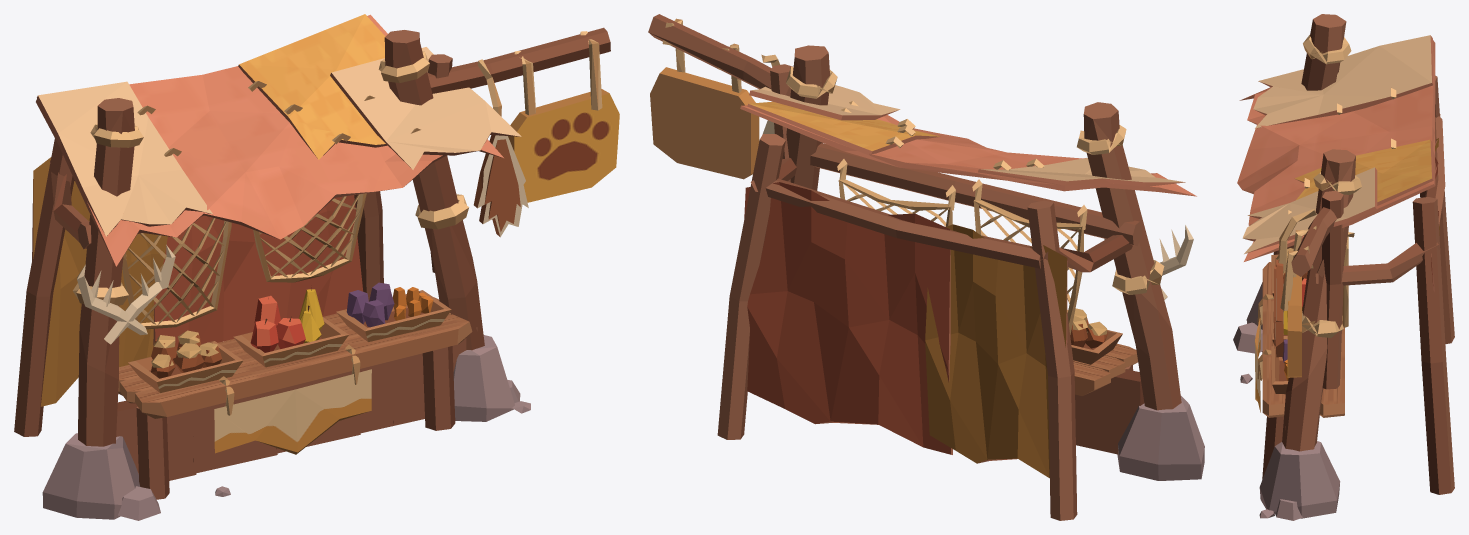
File: Prehistoric_Hunting_Stall.glb
The picture shows the model from 3 angles, left to right: view 1: azimuth 30°, elevation 25°; view 2: azimuth 150°, elevation 25°; view 3: azimuth 270°, elevation 25°; orthographic projection. The views are drawn at different scales.
Visible parts, largest first — view 1: Prehistoric Hunting Stall; view 2: Prehistoric Hunting Stall; view 3: Prehistoric Hunting Stall.
Part boxes in pixels (left/top/right/bottom): Prehistoric Hunting Stall: left=14, top=14, right=619, bottom=520; Prehistoric Hunting Stall: left=648, top=14, right=1204, bottom=520; Prehistoric Hunting Stall: left=1233, top=14, right=1454, bottom=520.
Bounding box in the file's own units: 6.1 × 3.81 × 2.29.
3 materials, 3 textured.
